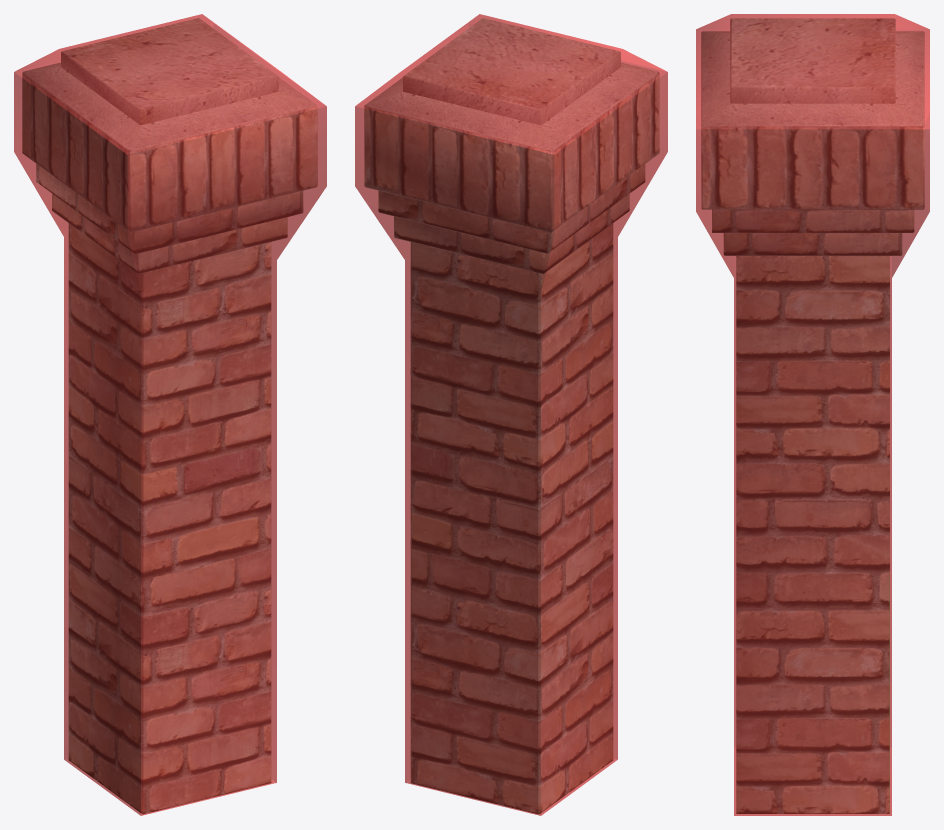
The model's file is pilar.obj.
3 renders of one model, left to right at view 1: azimuth 30°, elevation 25°; view 2: azimuth 150°, elevation 25°; view 3: azimuth 270°, elevation 25°, orthographic. The views are drawn at different scales.
Parts seen in each view (by area): view 1: brick_wall_column_big; view 2: brick_wall_column_big; view 3: brick_wall_column_big.
Part boxes in pixels (left/top/right/bottom): brick_wall_column_big: left=14, top=14, right=326, bottom=815; brick_wall_column_big: left=355, top=14, right=667, bottom=815; brick_wall_column_big: left=696, top=14, right=929, bottom=815.
Size of the model in its own units: 5.42 by 18.46 by 5.34.
Materials: 2 (1 with a texture image).
